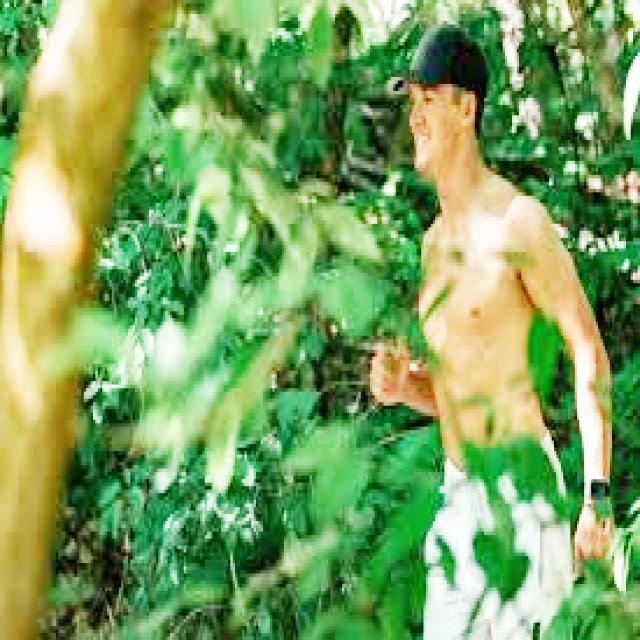TOPI: (389, 14, 491, 101)
